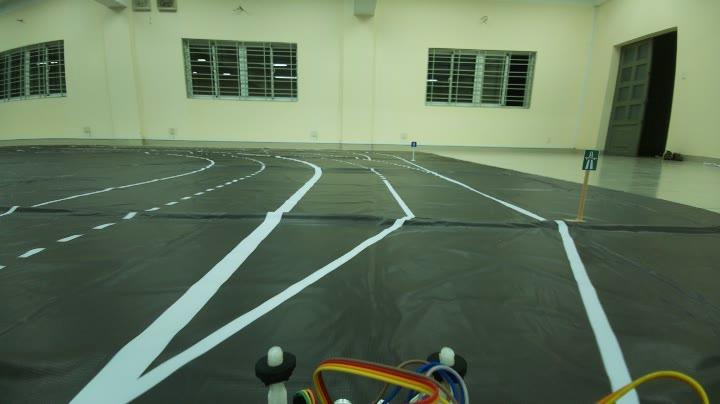highway_entry: (578, 138, 604, 177)
